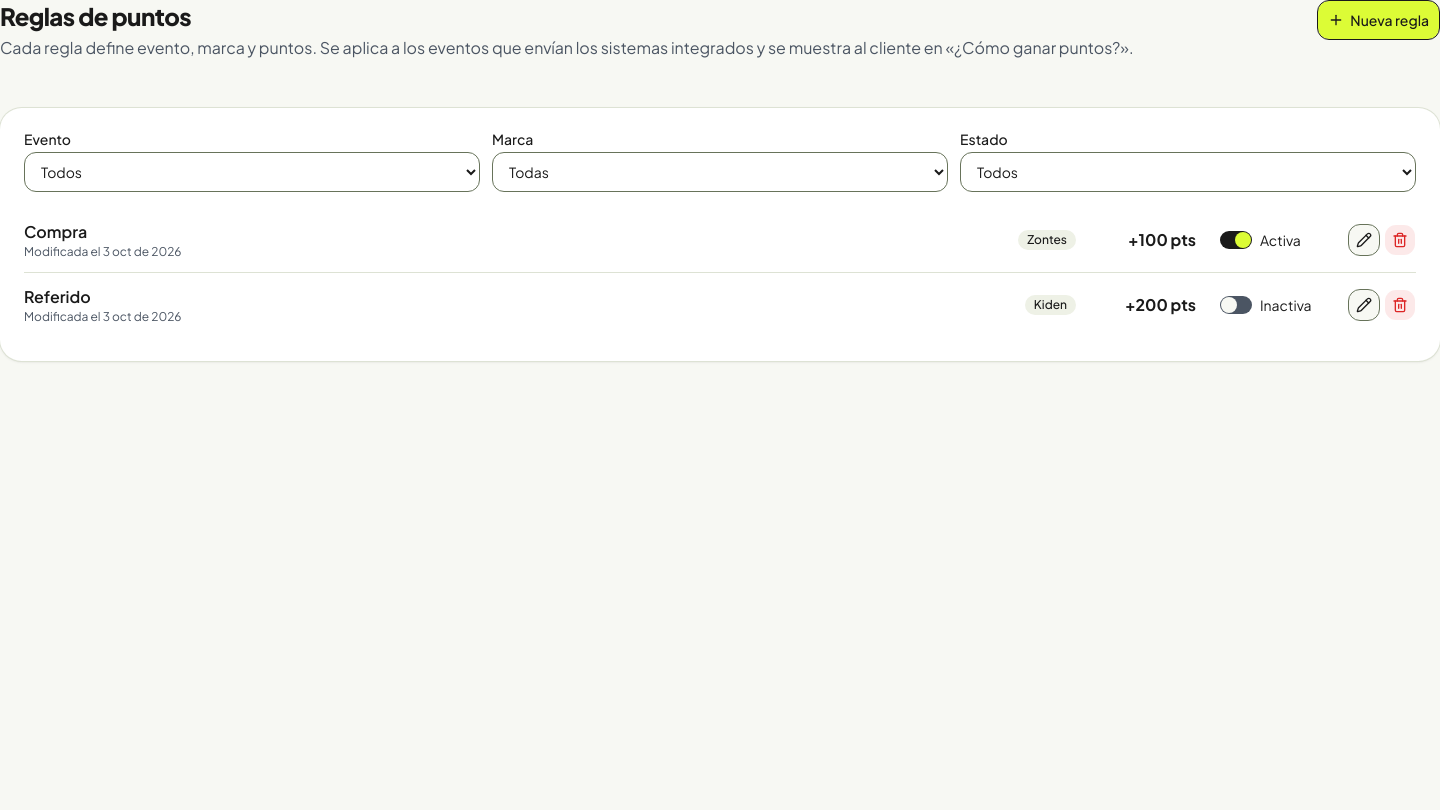
Scenario: F2-FE-02 · Reglas de puntos (UI-04, A05) › crea una regla mostrando el resumen antes de guardar
The width and height of the screenshot is (1440, 810).
Click the button "Nueva regla" at (1379,20), box [1317, 0, 1439, 40]
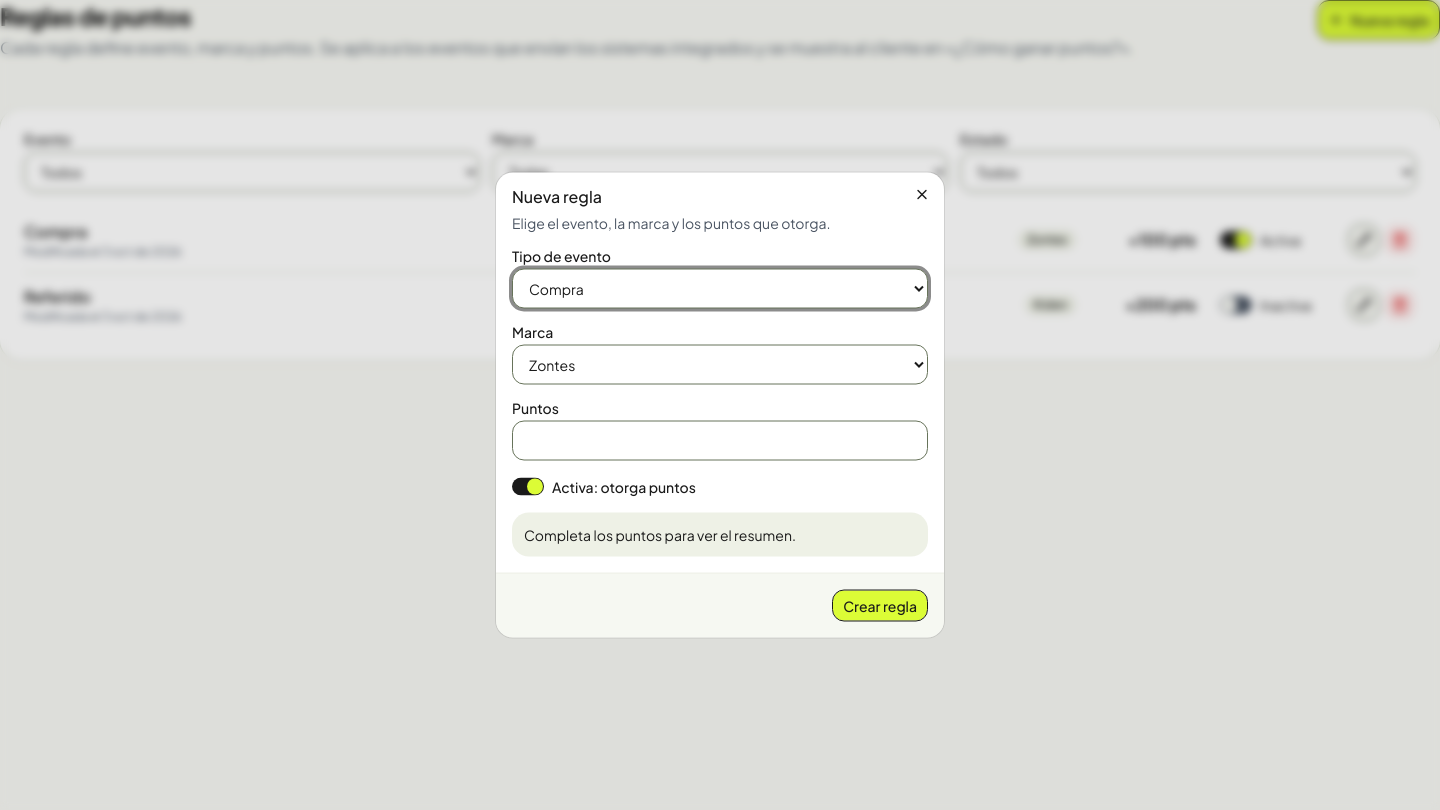
Select "Mantenimiento" in the dropdown labelled "Tipo de evento" at (720,288), box [512, 268, 928, 308]
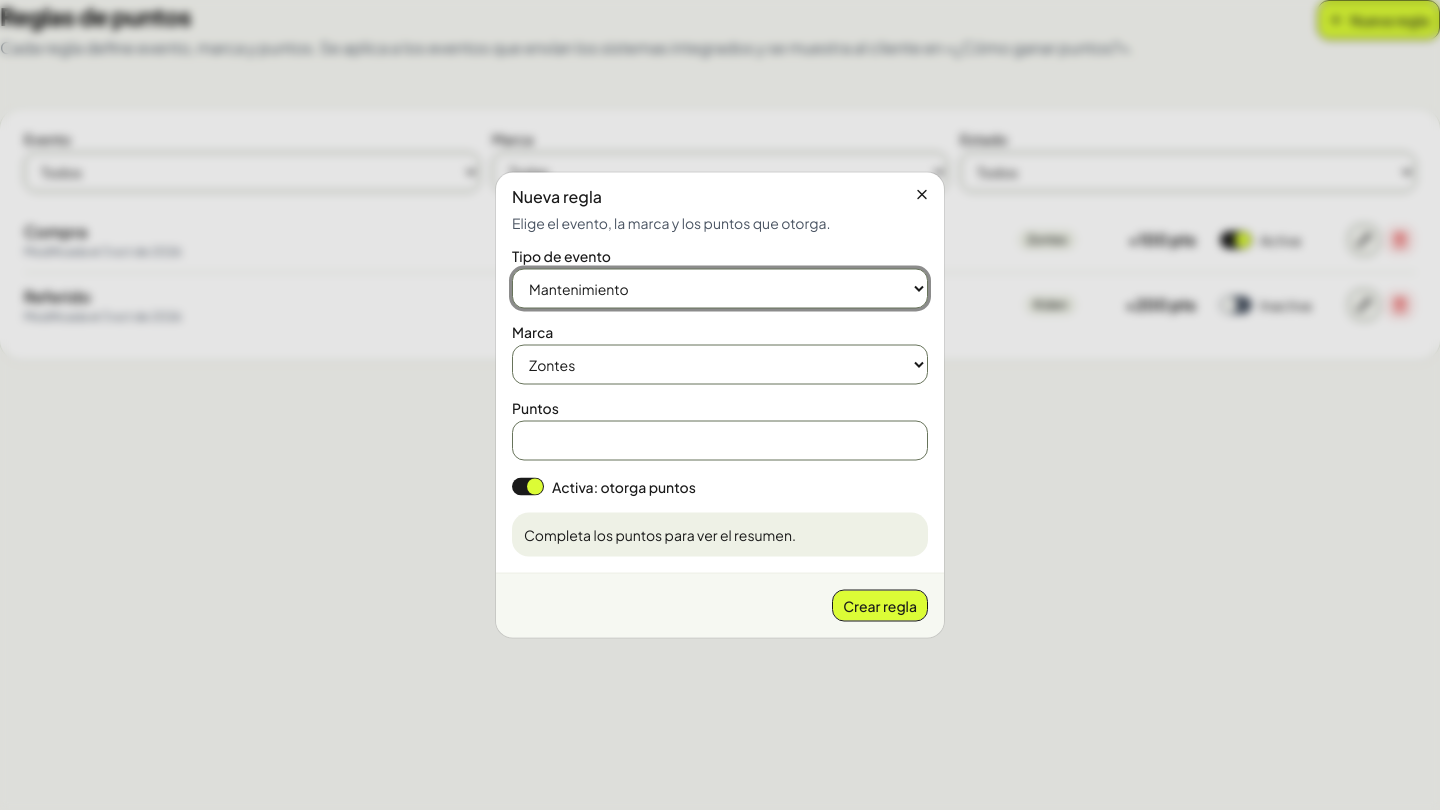
Select "NIU" in the dropdown labelled "Marca" at (720,364), box [512, 344, 928, 384]
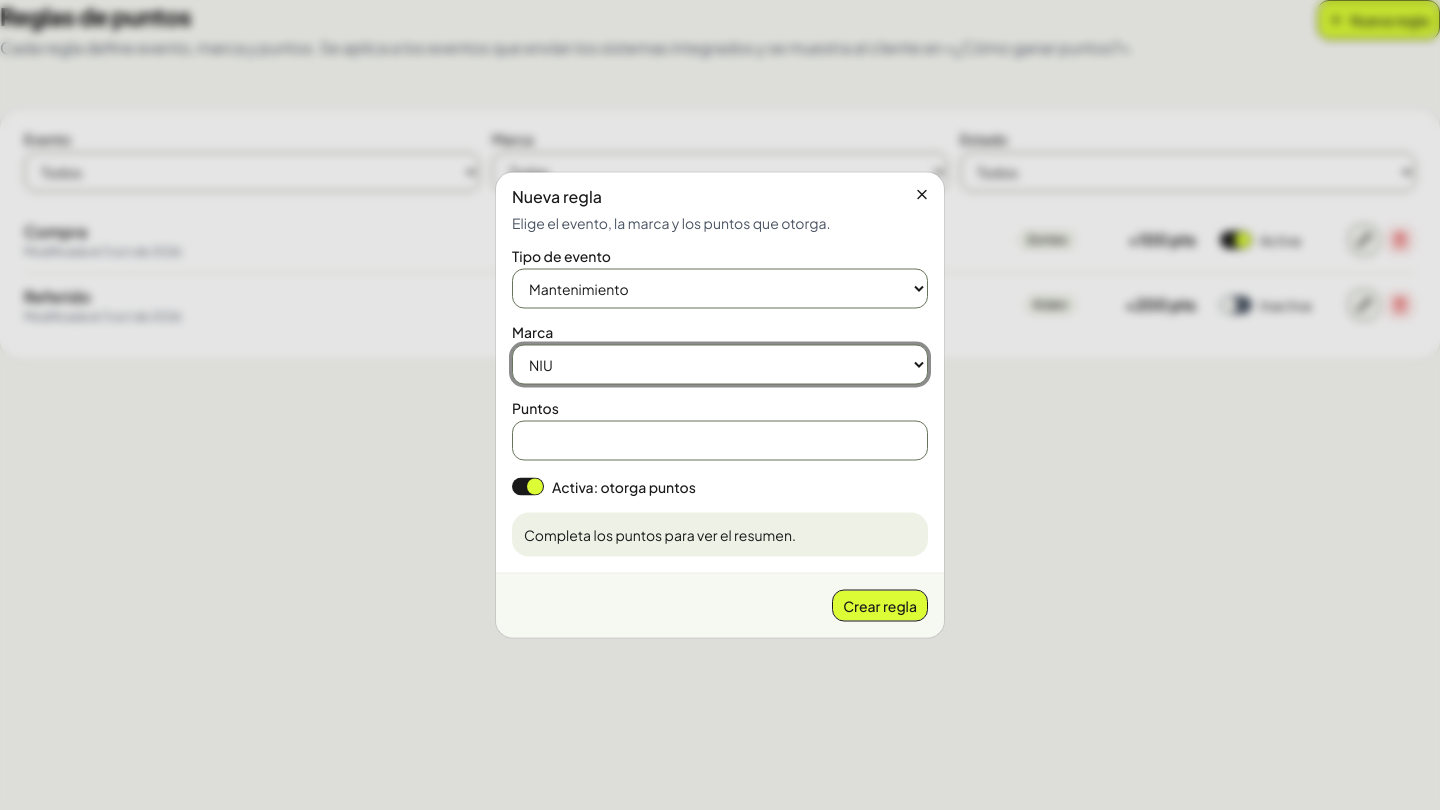
Type "50" into the number field labelled "Puntos" at (720,440), box [512, 420, 928, 460]
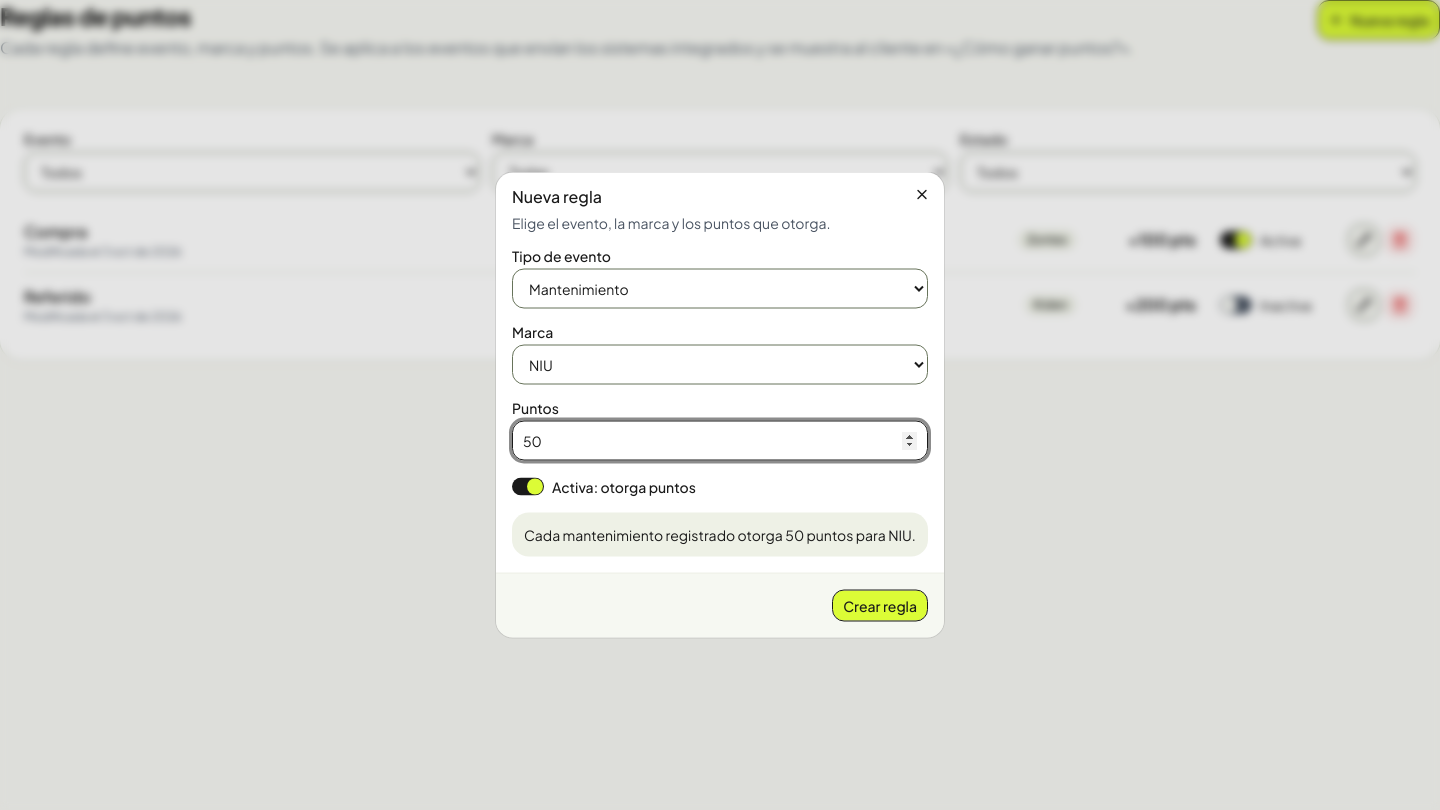
Expected: the text with test id "resumen-regla" reads "Cada mantenimiento registrado otorga 50 puntos para NIU.", [524, 526, 916, 544]
Click the button "Crear regla" at (880,606), box [832, 590, 928, 622]
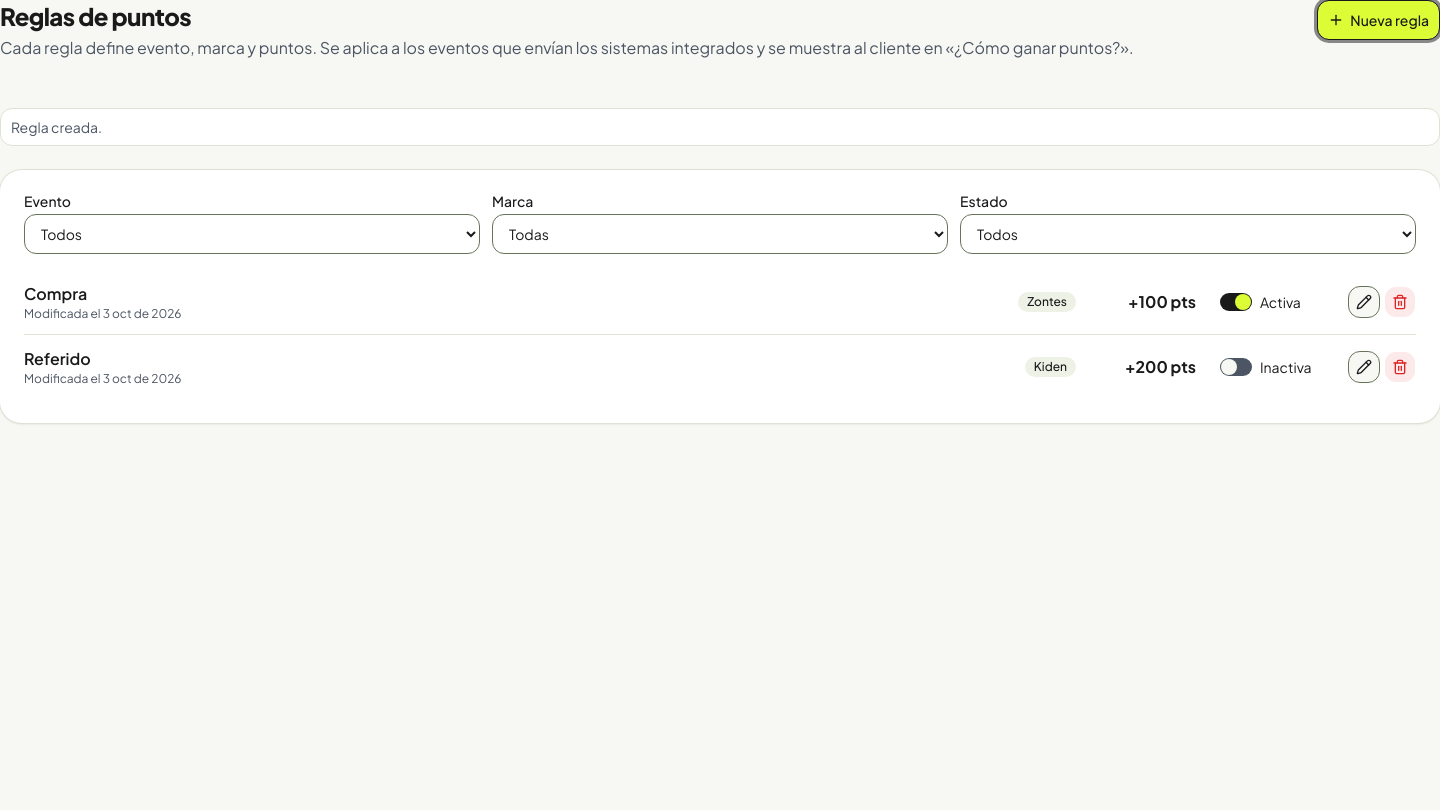
Expected: the text "Regla creada." is shown, [11, 118, 102, 136]
